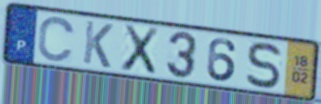3: (163, 30, 198, 81)
6: (206, 36, 238, 83)
C: (36, 15, 77, 64)
K: (81, 18, 115, 70)
S: (244, 41, 284, 91)
X: (119, 23, 161, 77)
